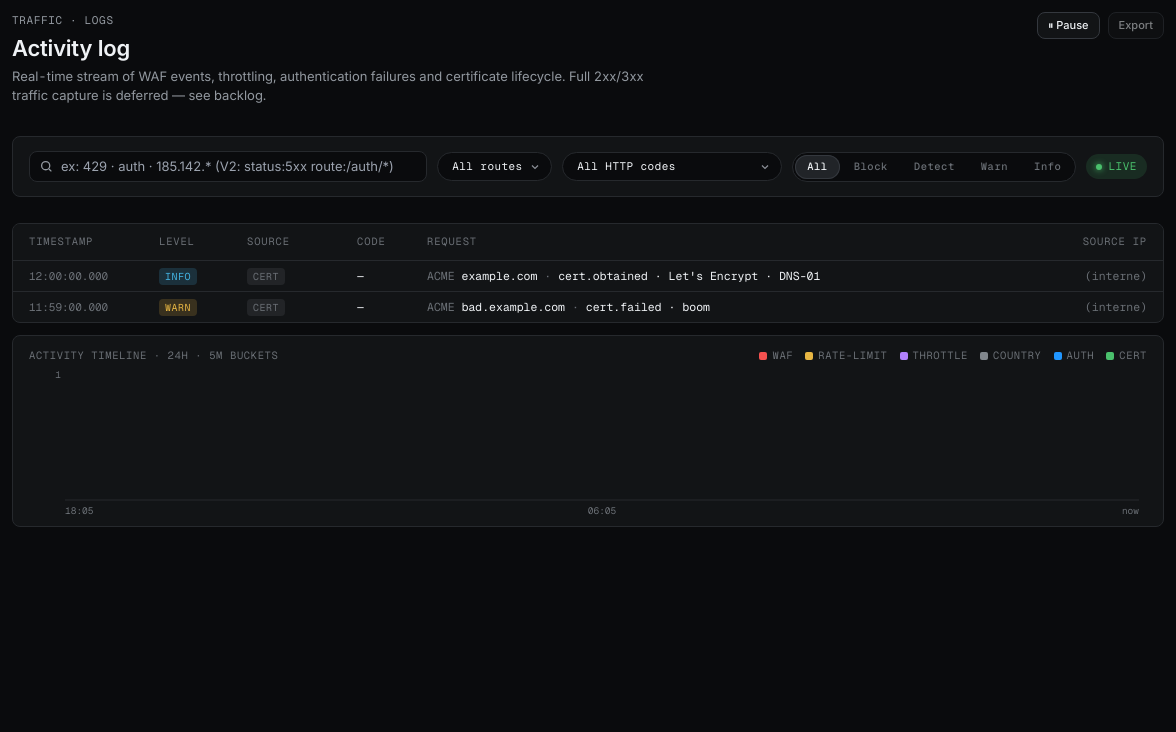
/logs — level taxonomy mapping for cert events › cert rows hidden under the block filter (no cert events are HTTP blocks)
Check: the text "cert.obtained · Let's Encrypt · DNS-01" is shown, box [558,268,820,283]
Click the button "Block".
click(871, 167)  # box [842,155,900,179]
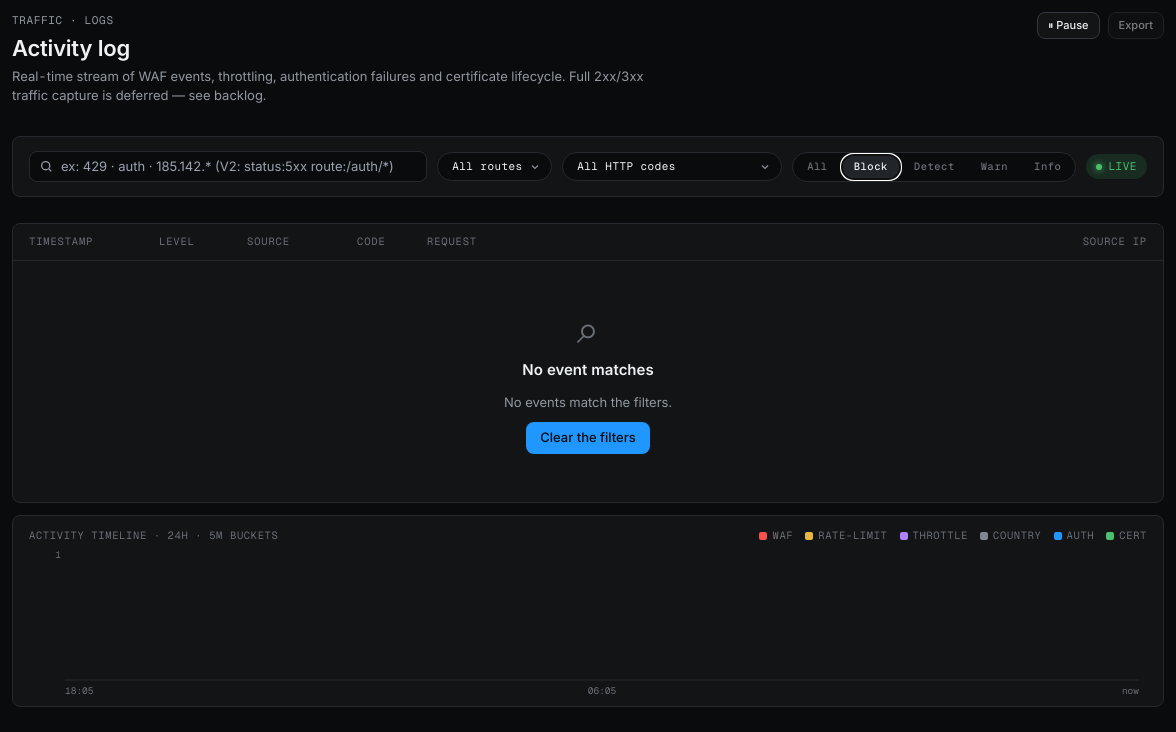
Check: the text "cert.obtained" is gone
Check: the text "cert.failed" is gone
